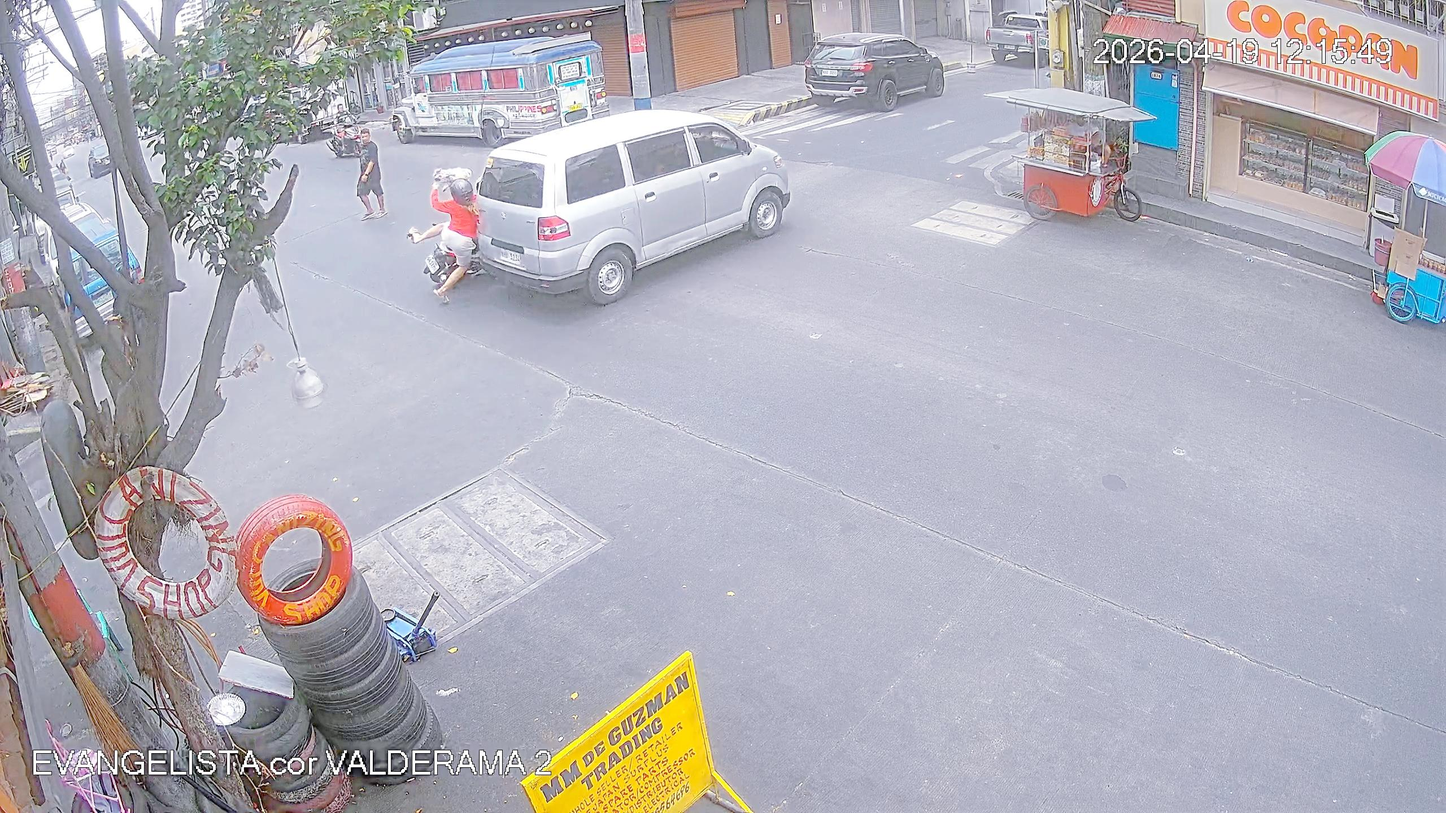Car: (474, 128, 859, 313), (802, 26, 946, 109), (968, 15, 1068, 100)
Minor Accident: (405, 105, 821, 306)
Motor: (395, 138, 480, 316)
